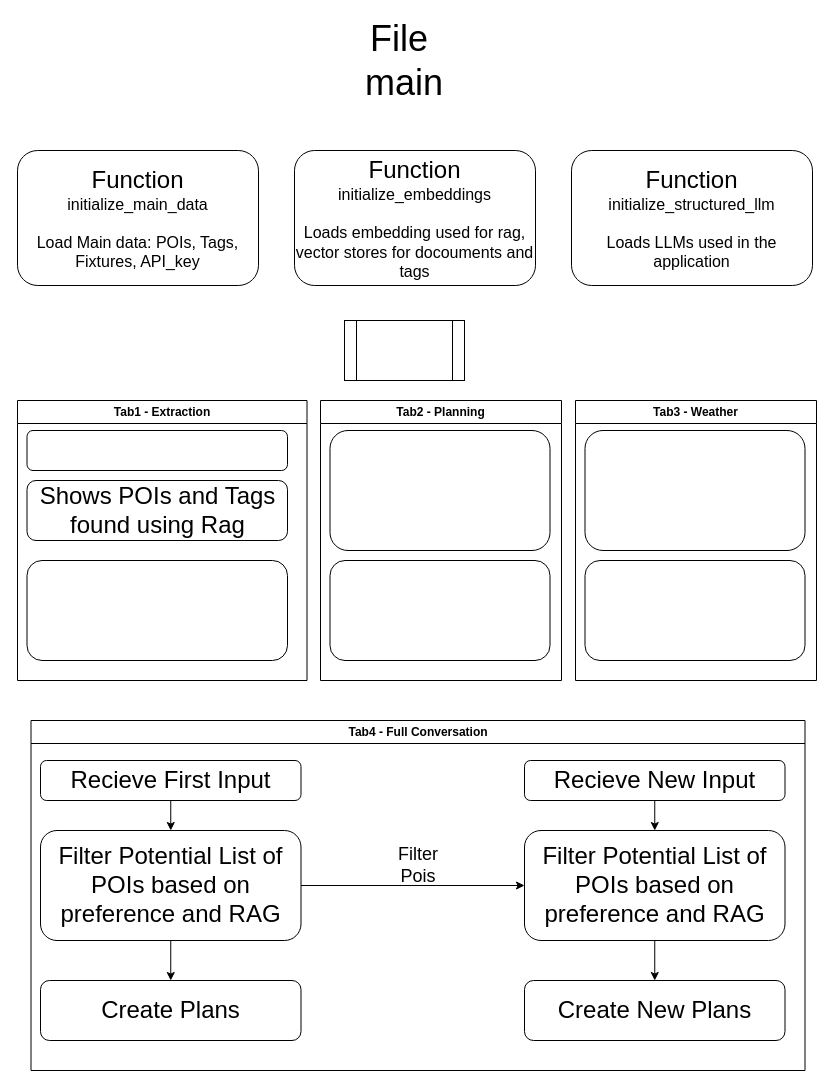
Some shapes in this 834 by 1088 pixel diagram are drawn without their labels. Each missing label, with the centre of its shape:
Analyze user input: the point at 157,450
Input: A POI, Date, Time: the point at 694,490
Input: list of POIs, Time, Duration, Weekday, NO Stops: the point at 439,490
Output: Hourly Check For Rain using API: the point at 694,610
Output: List of Plans: the point at 439,610
Shows Date, Time and Range found Found In Text: the point at 157,610
Streamlit APP: the point at 404,350
